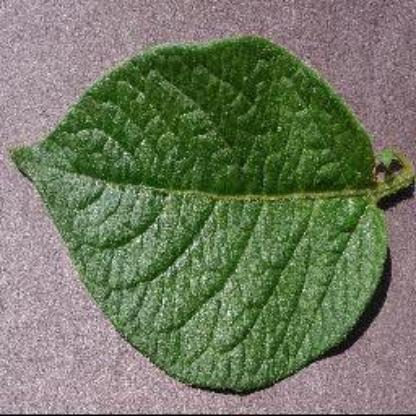Healthy-plant: (0, 33, 416, 397)
